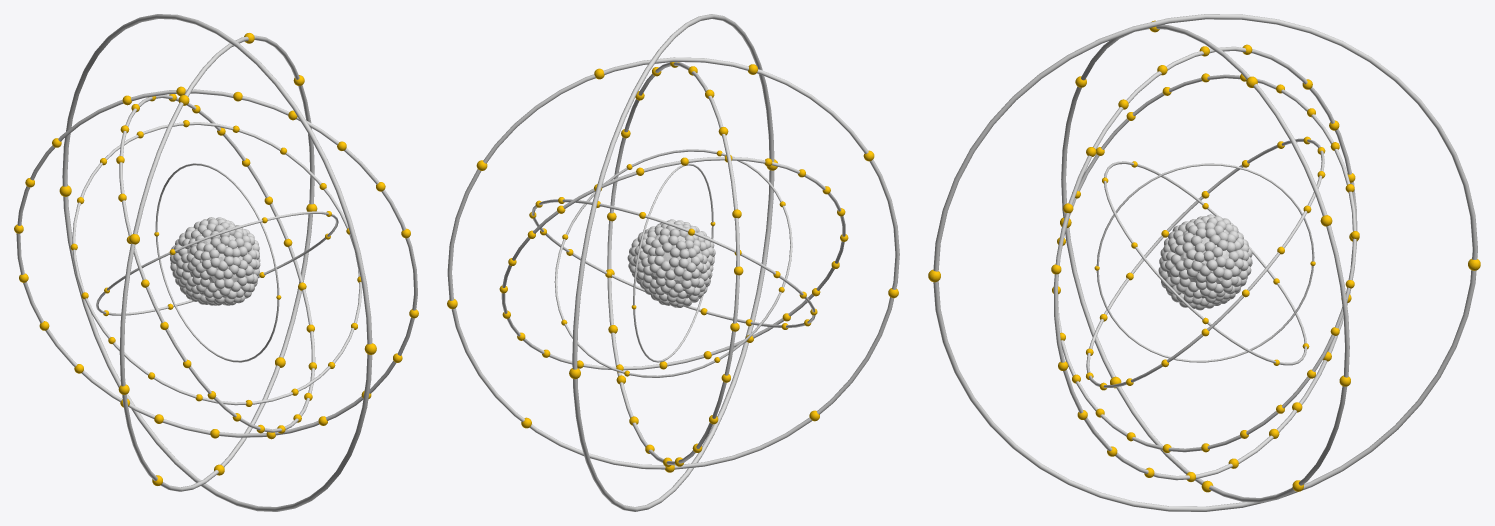
File: Uranium.fbx
3 views of the same model, side by side, from view 1: azimuth 30°, elevation 25°; view 2: azimuth 150°, elevation 25°; view 3: azimuth 270°, elevation 25° (orthographic). The views are drawn at different scales.
Visible parts, largest first — view 1: Nucleus; view 2: Nucleus; view 3: Nucleus.
Part boxes in pixels (x1,y1,x2,y2): Nucleus: (14, 14, 418, 511); Nucleus: (447, 14, 899, 511); Nucleus: (928, 14, 1480, 511).
Bounding box in the file's own units: 895 × 1215 × 1223.
